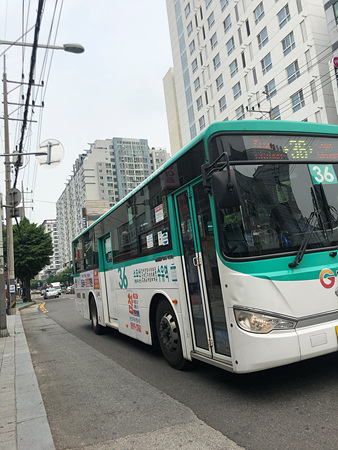bnum: (309, 162, 335, 182)
